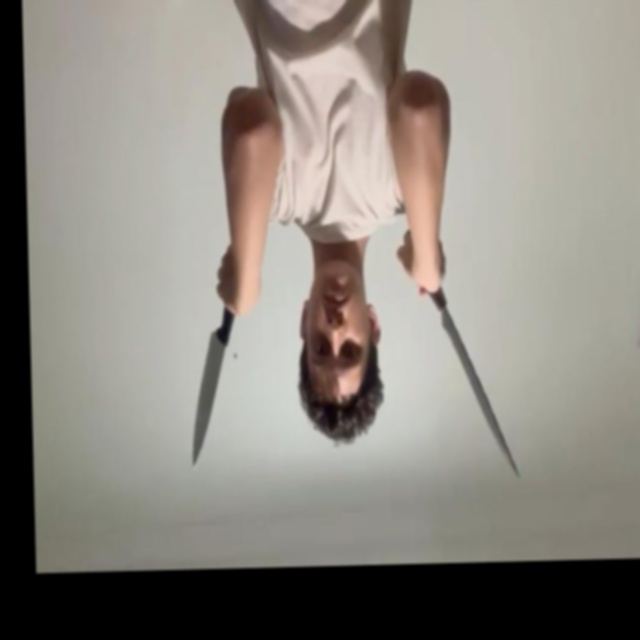Sharp-Object: (441, 306, 519, 478), (190, 342, 226, 468)
